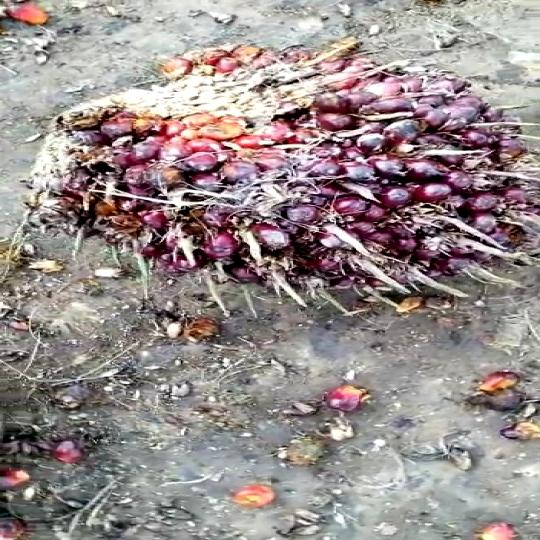masak: (22, 34, 540, 329)
